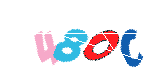0: (61, 0, 141, 80)
4: (31, 0, 111, 80)
8: (34, 0, 114, 80)
C: (69, 0, 149, 80)
